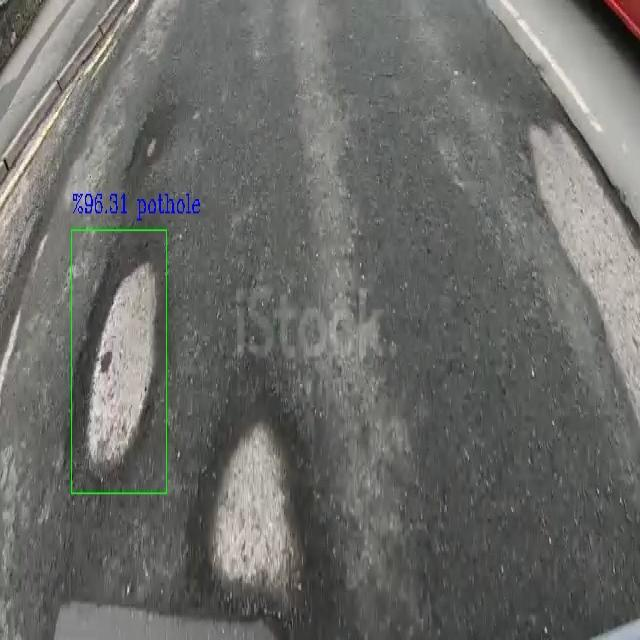pothole: (186, 367, 328, 615), (74, 230, 164, 486)
